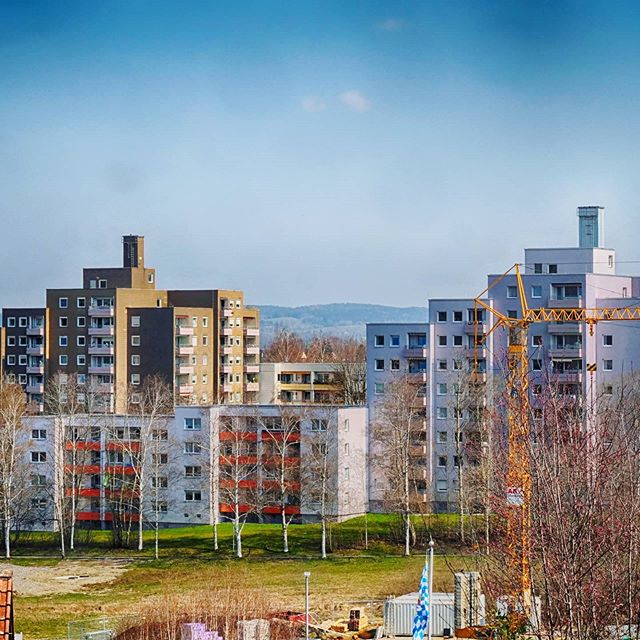building: (368, 226, 640, 516), (15, 401, 360, 538), (12, 271, 251, 406)
sky: (3, 3, 640, 276)
